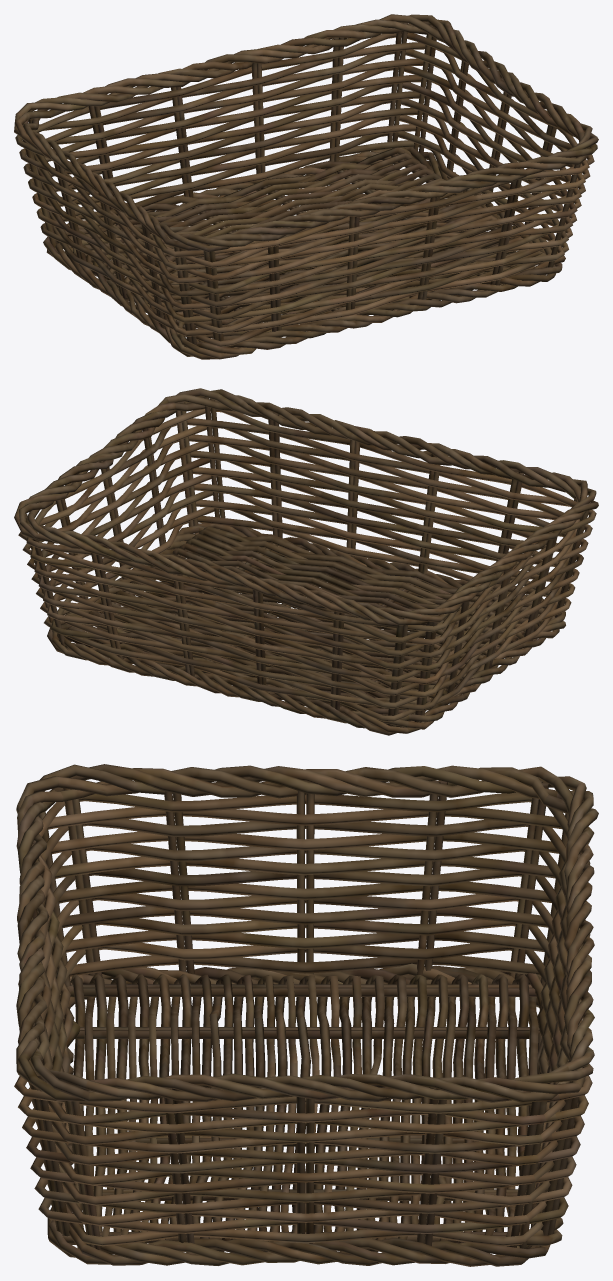
3 views of the same model, one above another, from view 1: azimuth 30°, elevation 25°; view 2: azimuth 150°, elevation 25°; view 3: azimuth 270°, elevation 25° (orthographic). The views are drawn at different scales.
Parts seen in each view (by area): view 1: wicker_basket_01; view 2: wicker_basket_01; view 3: wicker_basket_01.
Part boxes in pixels (bbox=[...]): wicker_basket_01: bbox=[14, 14, 598, 359]; wicker_basket_01: bbox=[14, 388, 598, 735]; wicker_basket_01: bbox=[14, 764, 598, 1266].
Size of the model in its own units: 0.3832 by 0.1174 by 0.295.
Materials: 1 (1 with a texture image).
